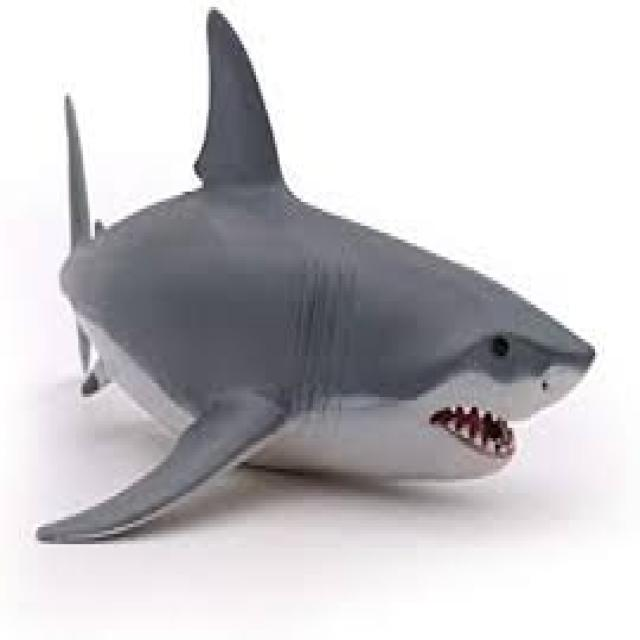shark: (40, 10, 596, 537)
